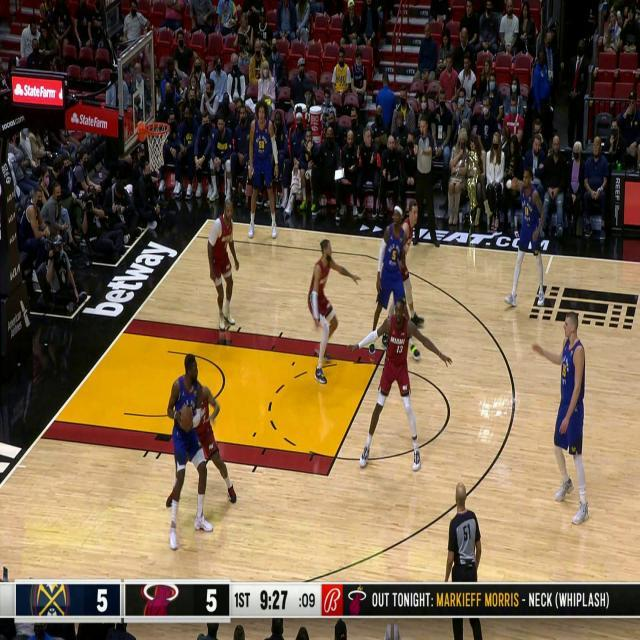rim: (178, 404, 196, 432)
